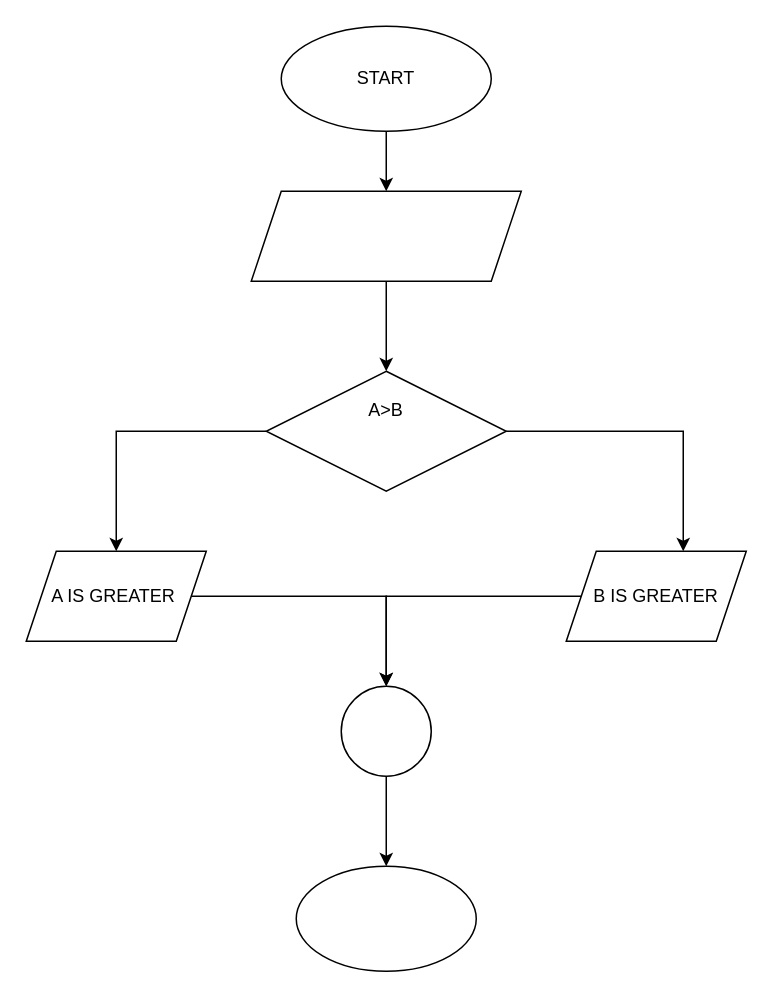
Some shapes in this 773 by 998 pixel diagram are drawn without their labels. The centre of each missing label's shape, as x and y in pixels:
"A,B" goes at pixel 385 235.
"STOP" goes at pixel 385 918.
